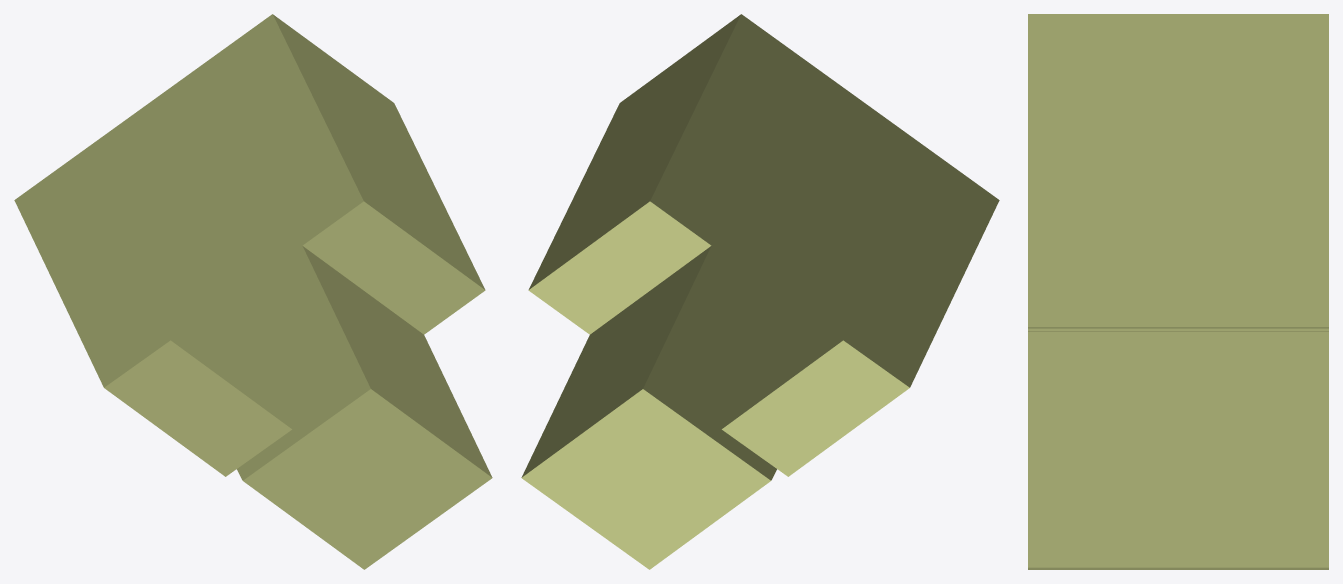
The picture shows the model from 3 angles, left to right: view 1: azimuth 30°, elevation 25°; view 2: azimuth 150°, elevation 25°; view 3: azimuth 270°, elevation 25°; orthographic projection. The views are drawn at different scales.
Parts seen in each view (by area): view 1: 0_3_0_1_2_1_0_1_3; view 2: 0_3_0_1_2_1_0_1_3; view 3: 0_3_0_1_2_1_0_1_3.
Part boxes in pixels (x1=…): 0_3_0_1_2_1_0_1_3: x1=14, y1=14, x2=492, y2=569; 0_3_0_1_2_1_0_1_3: x1=521, y1=14, x2=999, y2=569; 0_3_0_1_2_1_0_1_3: x1=1028, y1=14, x2=1328, y2=569.
Bounding box in the file's own units: 10.15 × 12.5 × 6.
